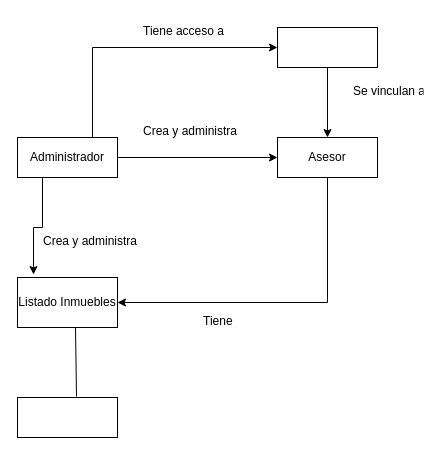
This 445x455 diagram has some shape labels left out. The centre of each missing label's shape, as x and y in pixels:
Ciudad: (x=67, y=417)
Solicitudes: (x=327, y=47)
